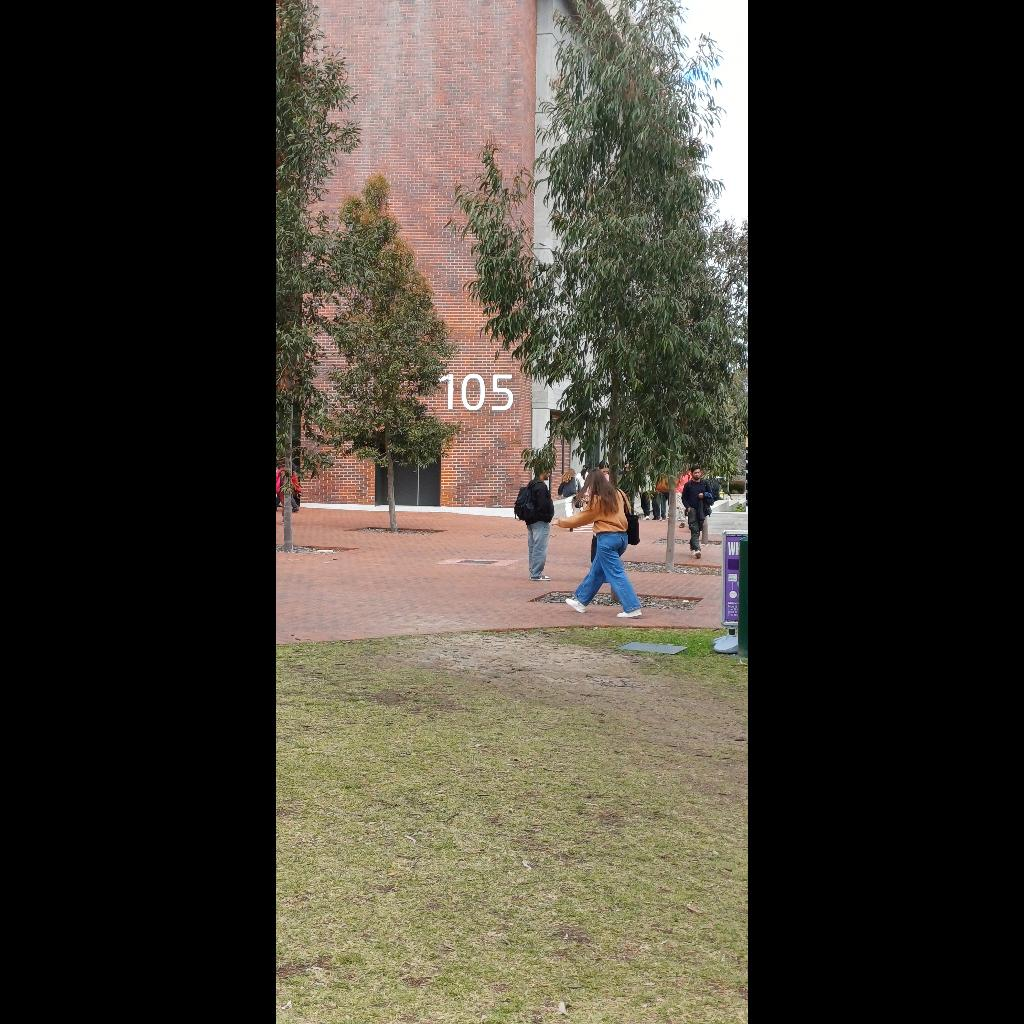BuildingCodes: (439, 370, 517, 414)
